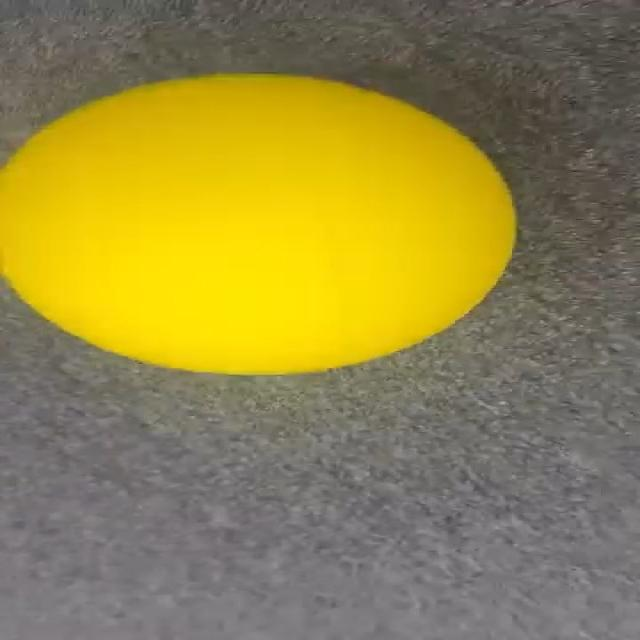Fuels: (2, 75, 514, 373)
